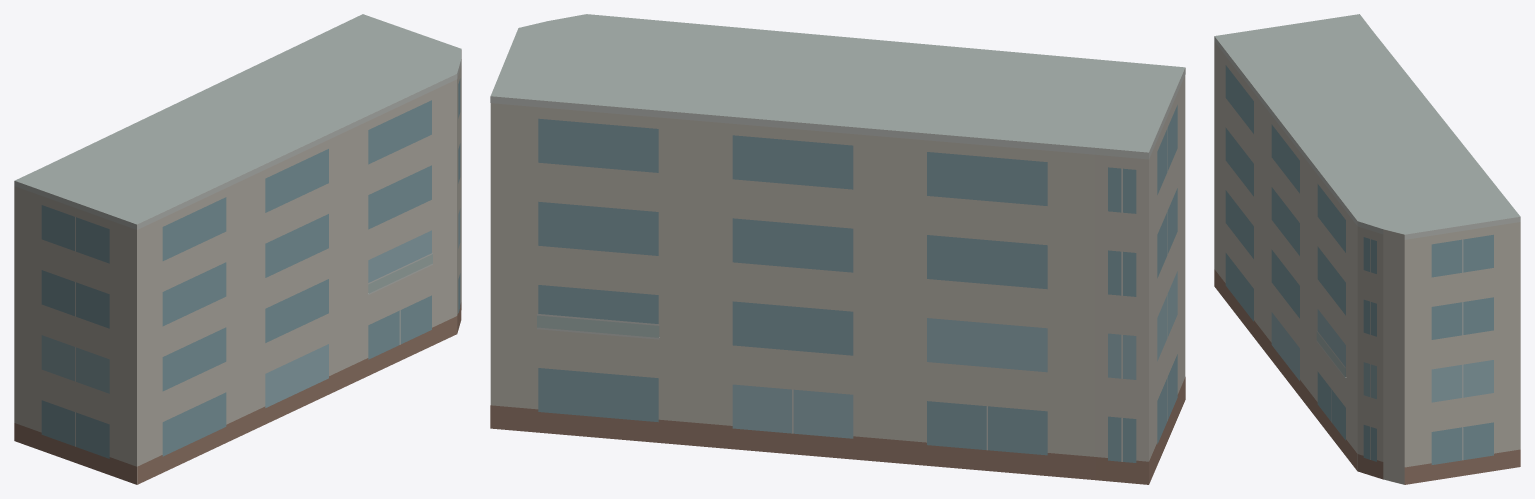
The model's file is survey-upis-32524491.glb.
3 views of the same model, side by side, from view 1: azimuth 30°, elevation 25°; view 2: azimuth 150°, elevation 25°; view 3: azimuth 270°, elevation 25° (orthographic). The views are drawn at different scales.
Parts seen in each view (by area): view 1: survey-upis-32524491.tmp; view 2: survey-upis-32524491.tmp; view 3: survey-upis-32524491.tmp.
Boxes of the visible parts, x1=… form: survey-upis-32524491.tmp: x1=14, y1=14, x2=461, y2=484; survey-upis-32524491.tmp: x1=490, y1=14, x2=1185, y2=484; survey-upis-32524491.tmp: x1=1214, y1=14, x2=1520, y2=484.
Bounding box in the file's own units: 22.14 × 11.7 × 12.99.
